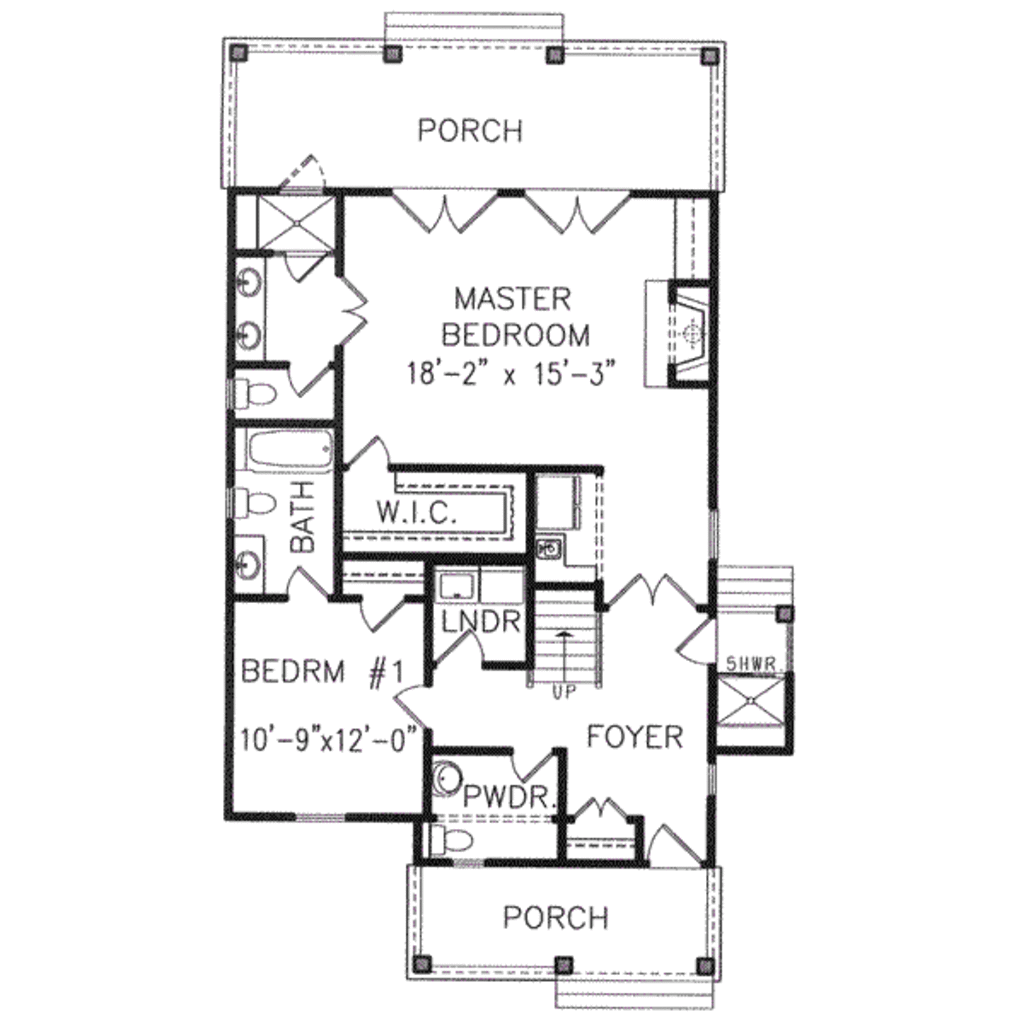coffee_table: (714, 668, 790, 732)
door: (520, 184, 640, 239), (389, 183, 499, 237), (604, 567, 693, 611), (636, 822, 703, 871), (660, 617, 716, 673), (337, 278, 379, 348), (389, 680, 437, 728), (343, 436, 395, 473), (354, 592, 402, 632), (284, 566, 333, 605), (280, 249, 339, 281), (510, 746, 561, 782), (286, 360, 333, 397), (442, 628, 480, 671), (575, 795, 624, 821)
large_sink: (230, 481, 276, 529), (428, 819, 478, 862), (229, 373, 279, 412)
small_sink: (235, 250, 266, 362), (230, 535, 265, 594), (426, 748, 461, 805)
stairs: (524, 586, 602, 703), (708, 560, 796, 639)
tub: (231, 424, 333, 480), (235, 429, 347, 480)
windows: (289, 806, 353, 832), (704, 504, 725, 567)
